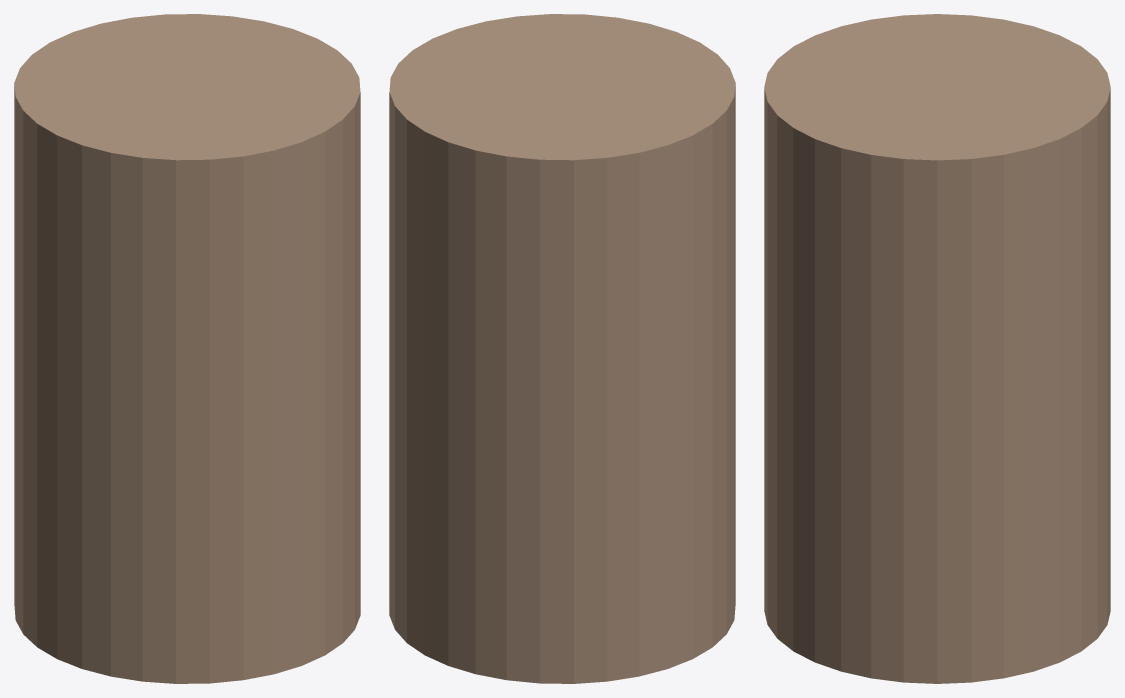
File: ef2bb8de-c449-45ef-aef3-e426f4b5b7db.glb
3 views of the same model, side by side, from view 1: azimuth 30°, elevation 25°; view 2: azimuth 150°, elevation 25°; view 3: azimuth 270°, elevation 25° (orthographic).
Parts seen in each view (by area): view 1: Cylinder; view 2: Cylinder; view 3: Cylinder.
Part boxes in pixels (<box>): Cylinder: <box>14,14,360,683</box>; Cylinder: <box>389,14,735,683</box>; Cylinder: <box>764,14,1110,683</box>.
Bounding box in the file's own units: 0.3 × 0.5 × 0.3.
